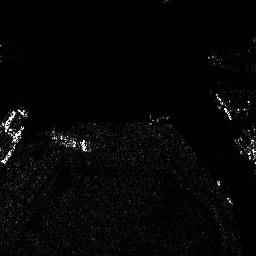ship: (213, 92, 233, 121)
